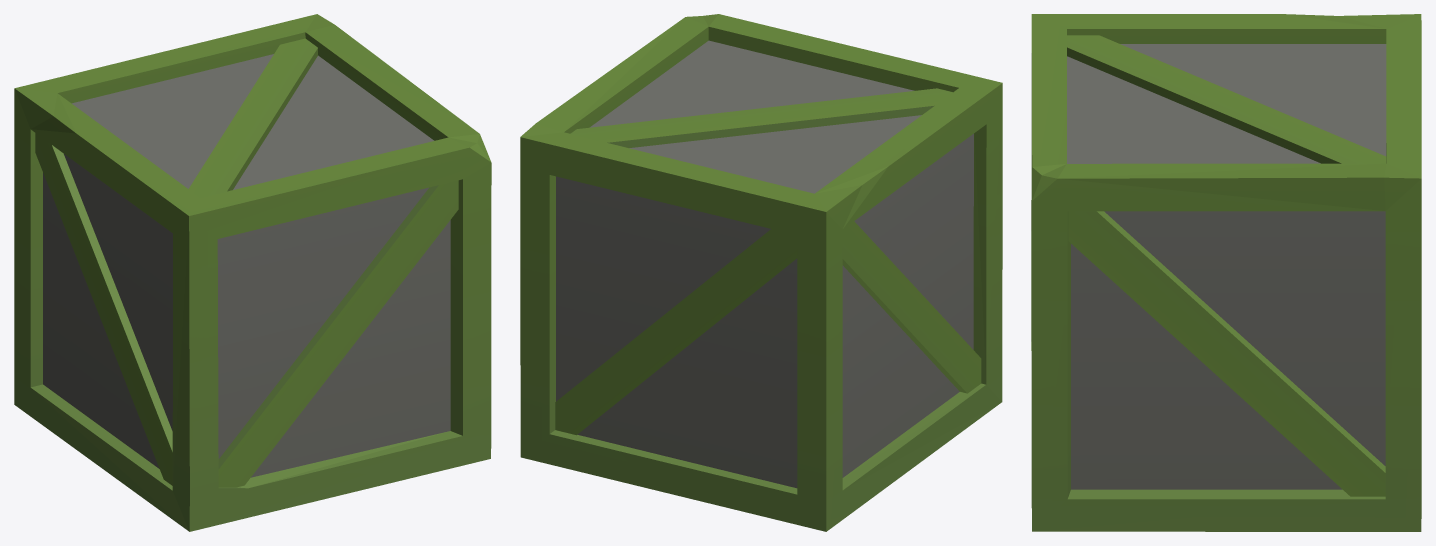
3 renders of one model, left to right at view 1: azimuth 30°, elevation 25°; view 2: azimuth 150°, elevation 25°; view 3: azimuth 270°, elevation 25°, orthographic. The views are drawn at different scales.
Parts seen in each view (by area): view 1: Box_01; view 2: Box_01; view 3: Box_01.
Part boxes in pixels (left/top/right/bottom): Box_01: left=14, top=14, right=491, bottom=531; Box_01: left=520, top=14, right=1002, bottom=531; Box_01: left=1031, top=14, right=1421, bottom=531.
Bounding box in the file's own units: 0.9163 × 0.9166 × 0.9132.
